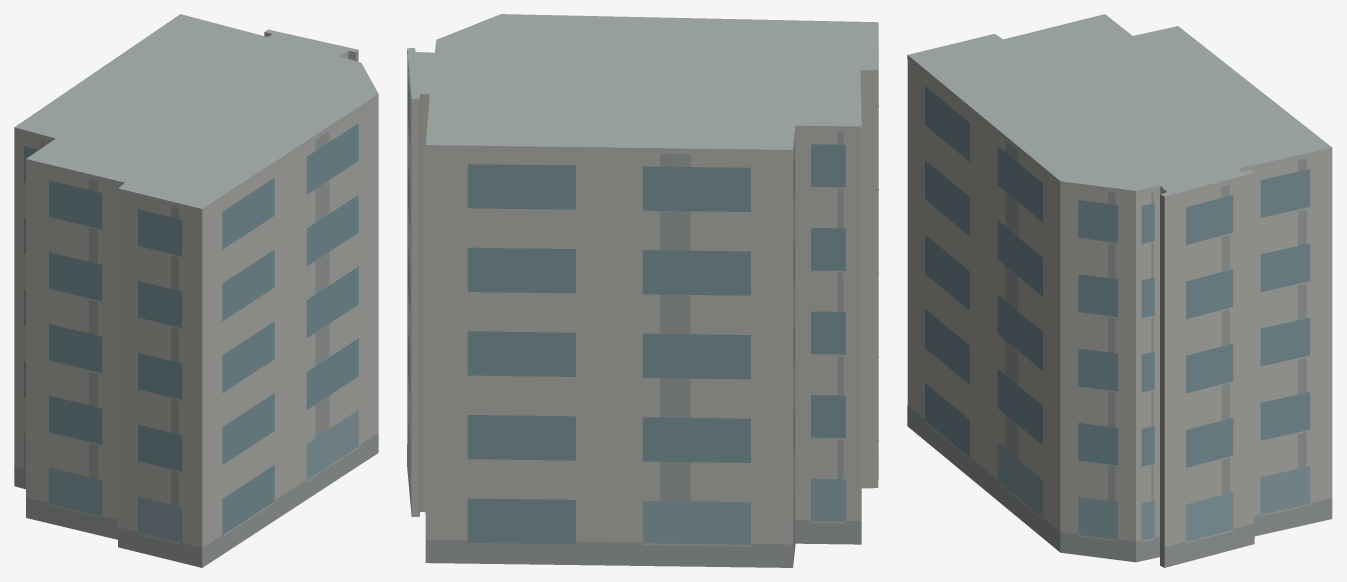
File: survey-upis-32947956.glb
3 renders of one model, left to right at view 1: azimuth 30°, elevation 25°; view 2: azimuth 150°, elevation 25°; view 3: azimuth 270°, elevation 25°, orthographic. The views are drawn at different scales.
Visible parts, largest first — view 1: survey-upis-32947956.tmp; view 2: survey-upis-32947956.tmp; view 3: survey-upis-32947956.tmp.
Part boxes in pixels (left/top/right/bottom): survey-upis-32947956.tmp: left=14, top=14, right=378, bottom=567; survey-upis-32947956.tmp: left=407, top=14, right=878, bottom=567; survey-upis-32947956.tmp: left=907, top=14, right=1332, bottom=567.
Size of the model in its own units: 19.35 by 18.35 by 19.03.
